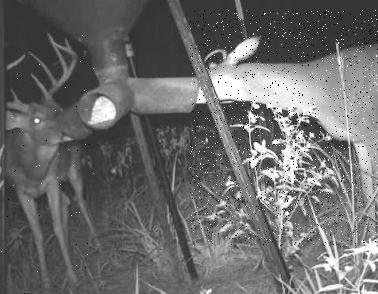Deer: (190, 10, 378, 246), (0, 30, 95, 294)
